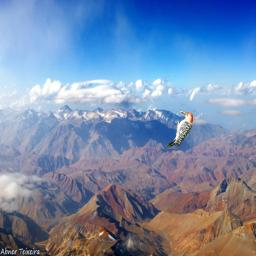Woodpecker: (165, 109, 193, 150)
